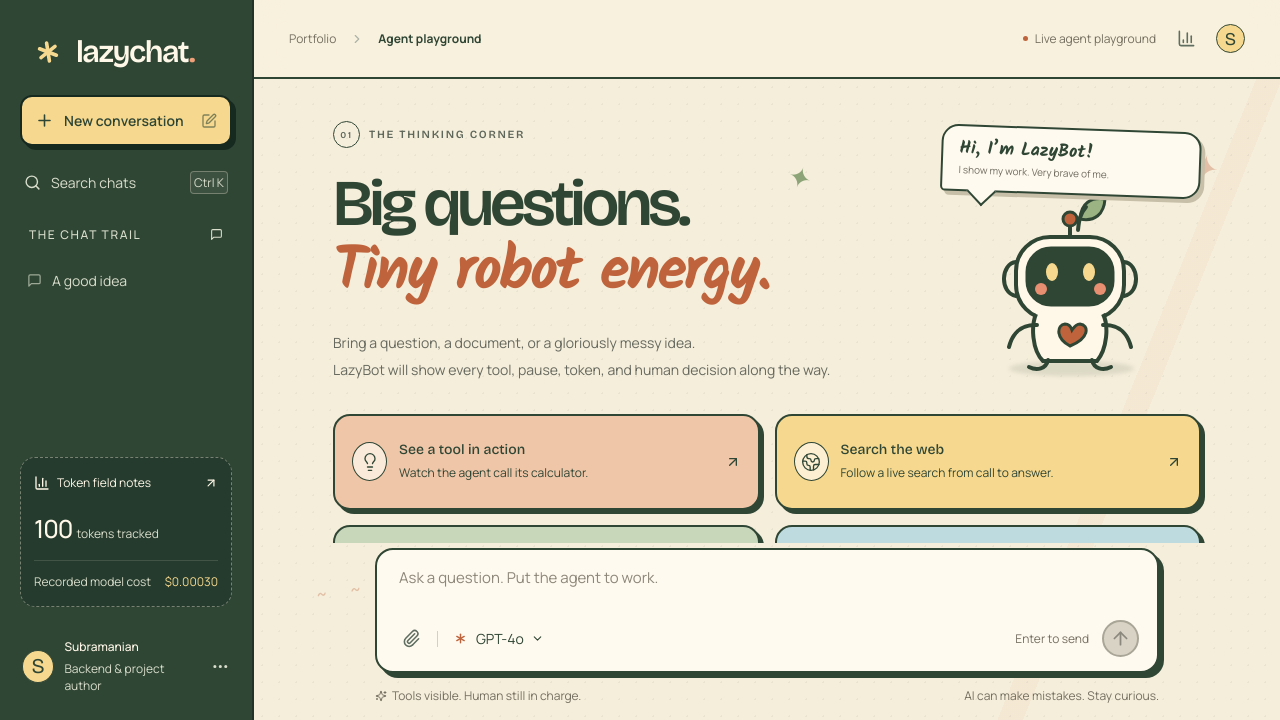
Test: workspace interactions › searches titles and opens the selected conversation
Expected: the button "A good idea" is shown, 15,258 -> 237,303
Click the button "Search chats Ctrl K" at (126, 182), box 20,159 -> 232,206
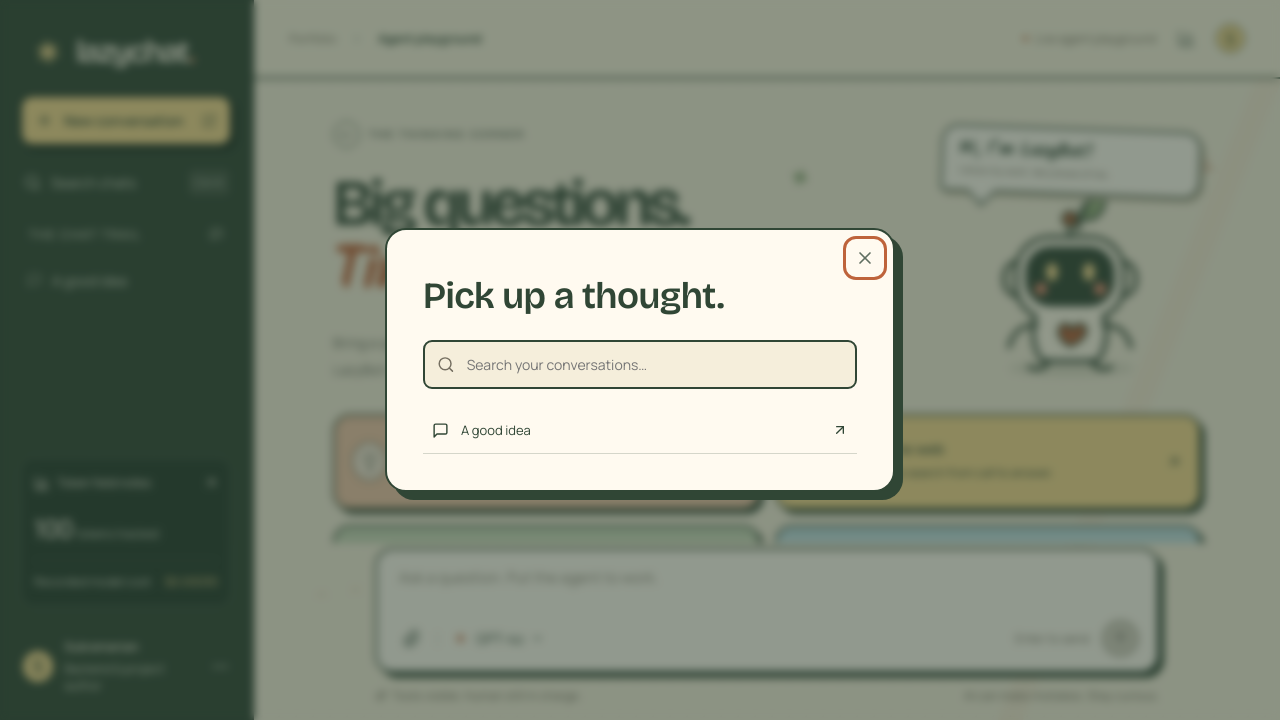
Type "good" into the field named "Search conversations" at (654, 364), box 465,354 -> 843,375
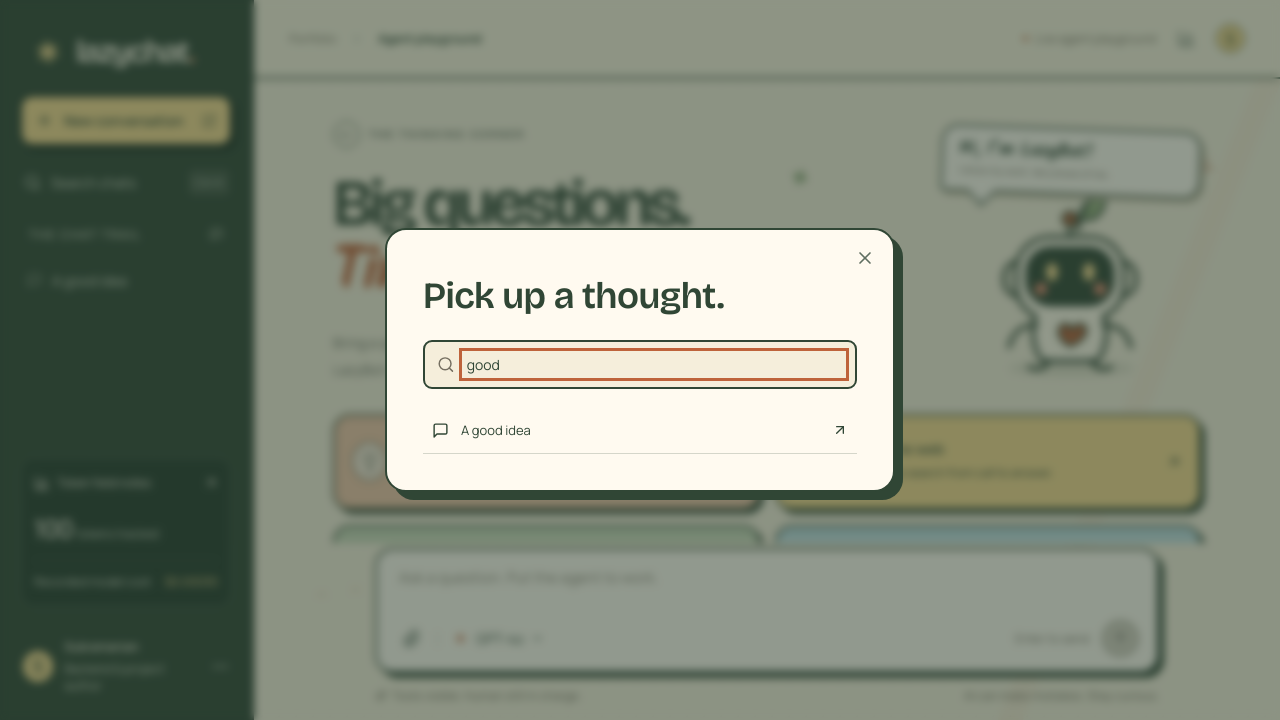
Click the button "A good idea" at (496, 430), box 423,407 -> 857,454
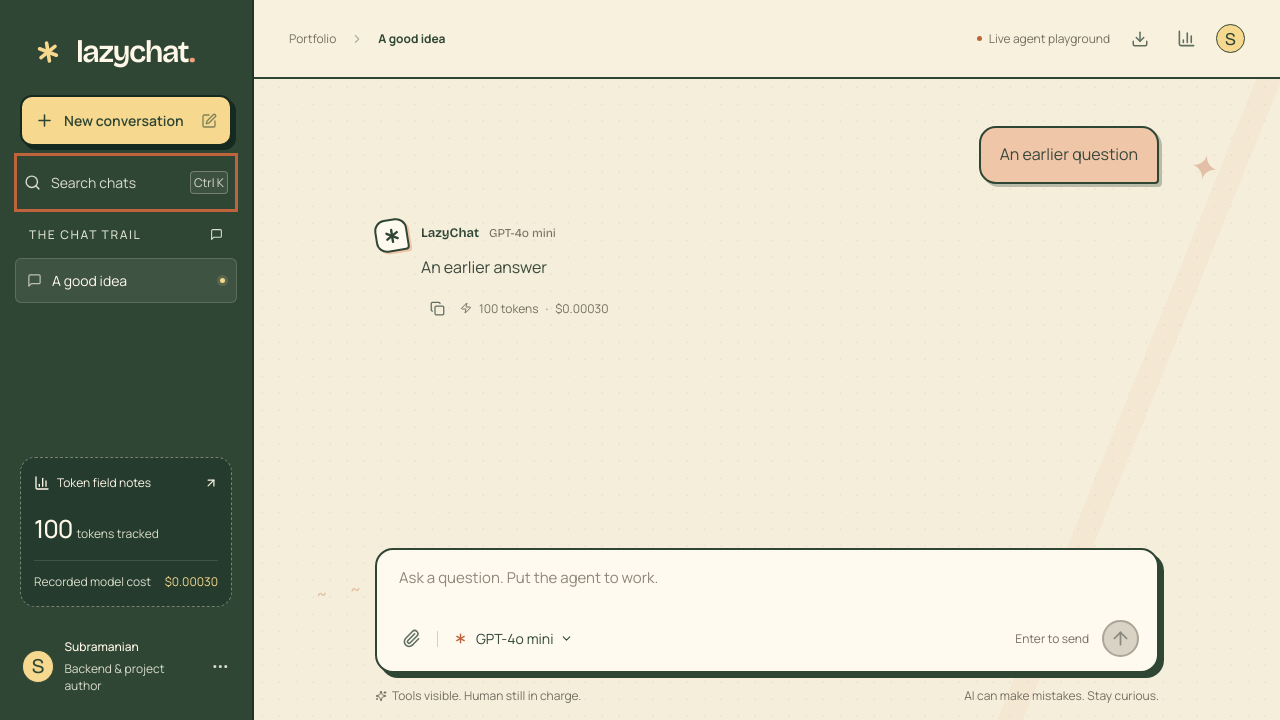
Result: the text "An earlier answer" is shown at 421,256 -> 547,278
Result: the dialog is gone
